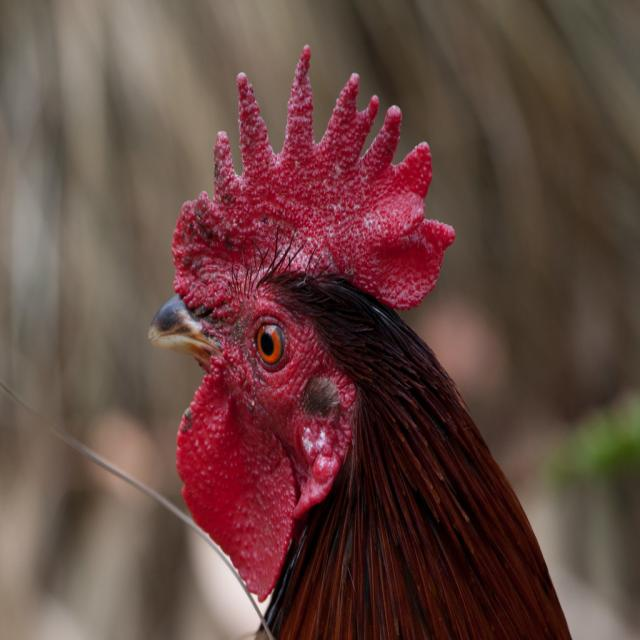Chicken: (148, 45, 573, 640)
